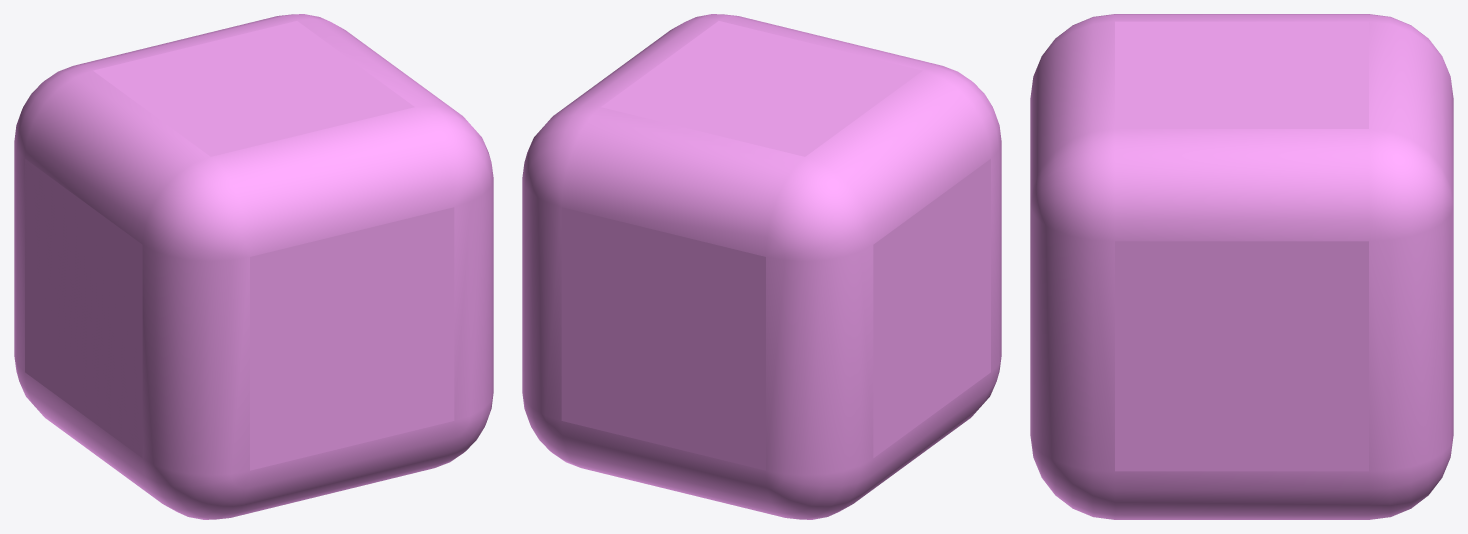
3 renders of one model, left to right at view 1: azimuth 30°, elevation 25°; view 2: azimuth 150°, elevation 25°; view 3: azimuth 270°, elevation 25°, orthographic. The views are drawn at different scales.
Visible parts, largest first — view 1: Root Node; view 2: Root Node; view 3: Root Node.
Part boxes in pixels (<box>): Root Node: <box>14,14,493,519</box>; Root Node: <box>522,14,1001,519</box>; Root Node: <box>1030,14,1453,519</box>.
Bounding box in the file's own units: 0.4 × 0.4 × 0.4.
